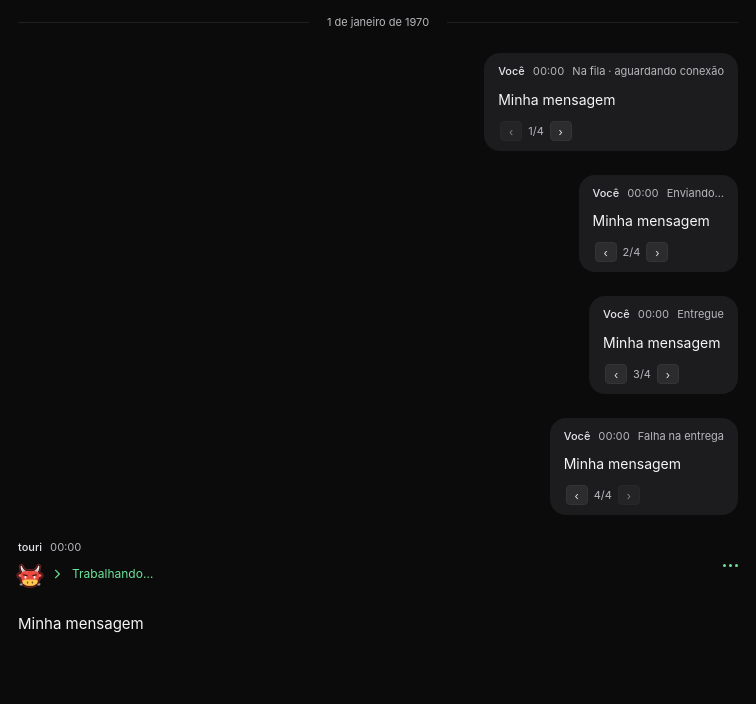
Test: delivery states and interrupted tools render in Portuguese
This screenshot has width=756, height=704.
What coordinates should you click on to do the following:
click the button with class "turn-activity-toggle"
I would click on:
 (102, 574)
Its box is [50, 564, 153, 584].
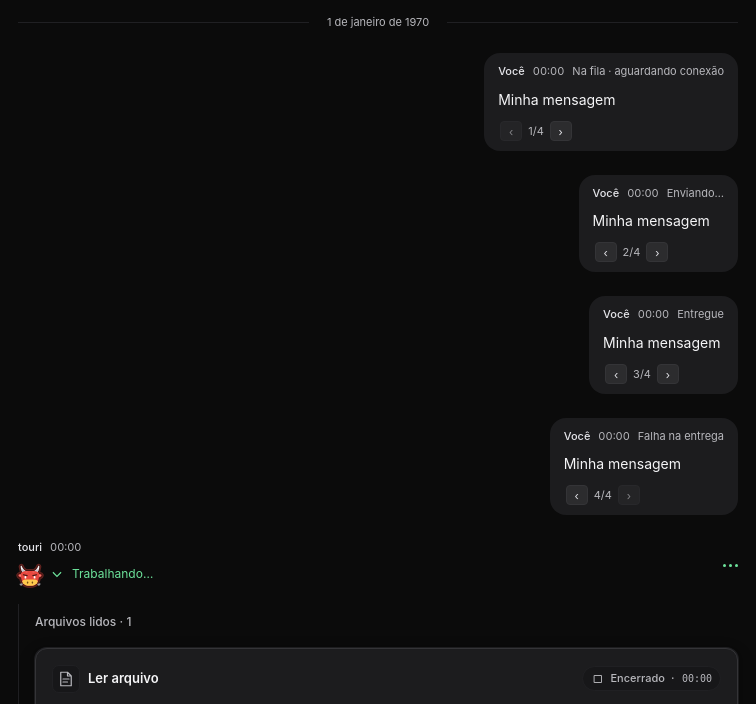
Check: the text "Na fila · aguardando conexão" is shown, box [572, 63, 724, 80]
Check: the text "Encerrado" is shown, box [610, 671, 665, 685]
